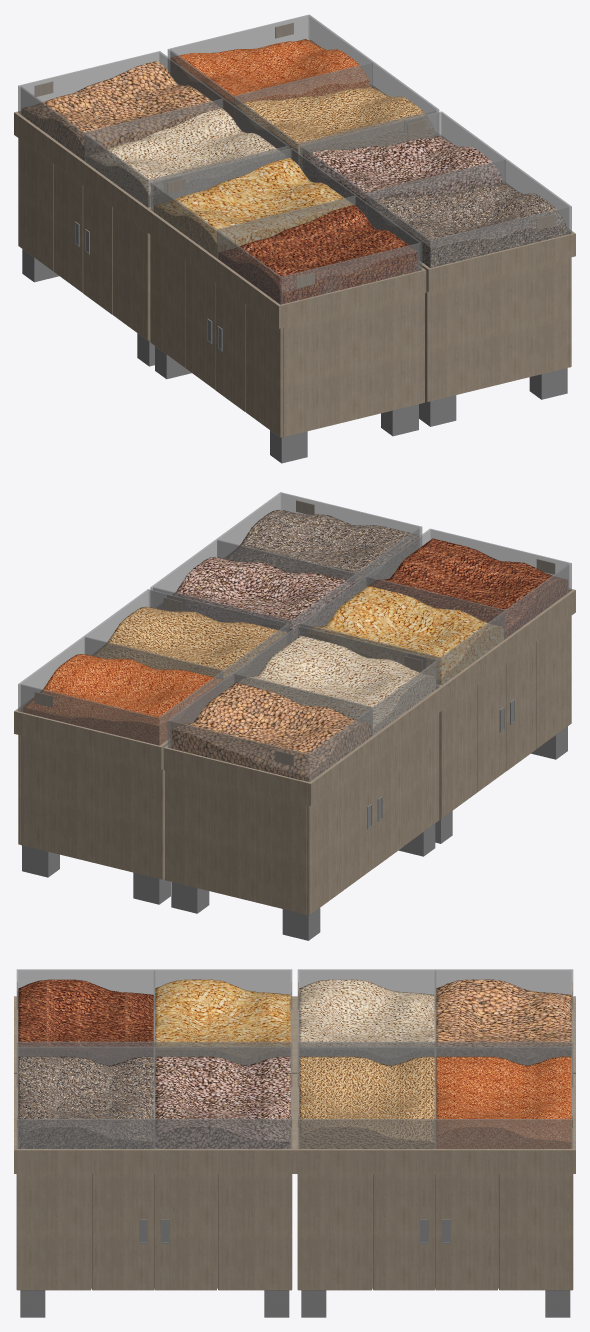
Rendered from SM_超市谷物类.FBX.
3 renders of one model, top to bottom at view 1: azimuth 30°, elevation 25°; view 2: azimuth 150°, elevation 25°; view 3: azimuth 270°, elevation 25°, orthographic. The views are drawn at different scales.
Parts seen in each view (by area): view 1: SM_超市谷物类; view 2: SM_超市谷物类; view 3: SM_超市谷物类.
Boxes of the visible parts, left/top/right/bottom form: SM_超市谷物类: left=14, top=14, right=575, bottom=463; SM_超市谷物类: left=14, top=492, right=575, bottom=940; SM_超市谷物类: left=14, top=969, right=575, bottom=1317.
Bounding box in the file's own units: 1.39 × 0.8363 × 2.14.
